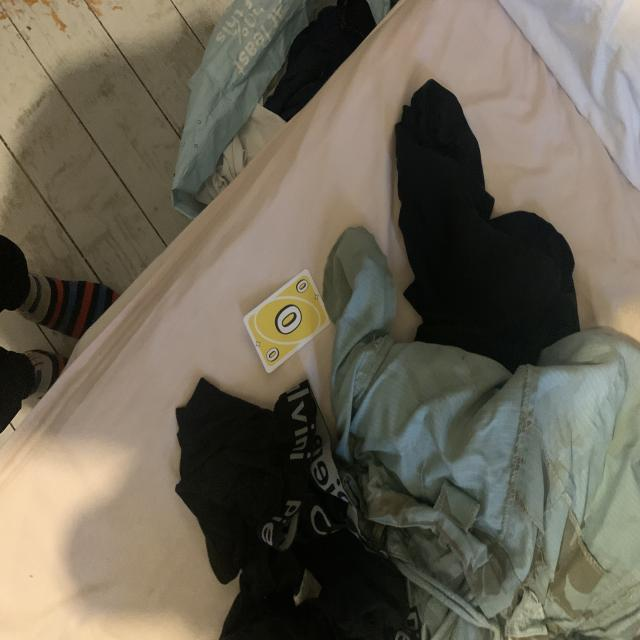lyellow-0: (293, 278, 310, 297)
